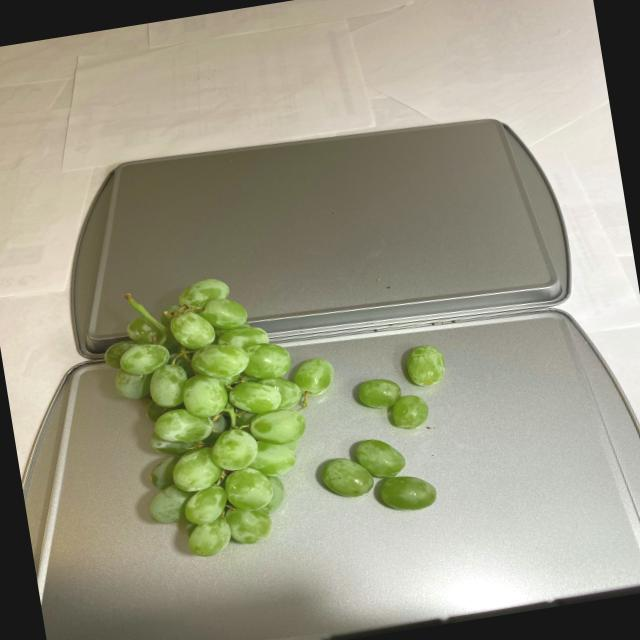grapes: (99, 245, 468, 565)
